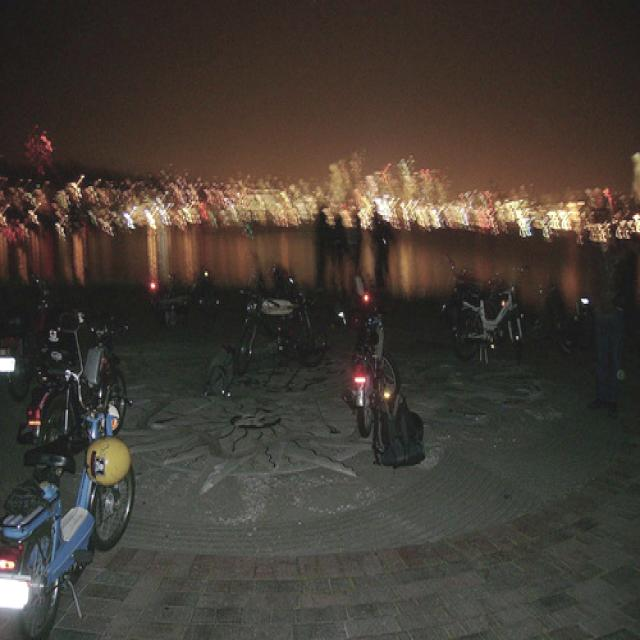Motorbike: (345, 294, 404, 434)
